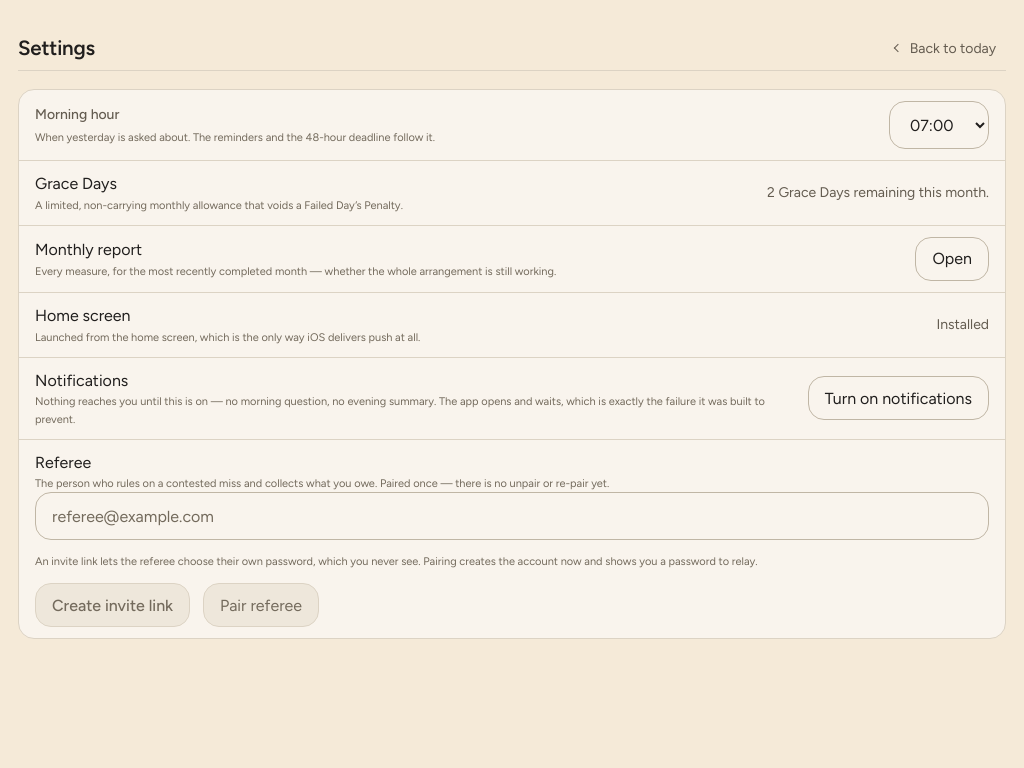
the settings surface › shows the server refusal verbatim rather than a generic failure, and creates nothing
Expected: the dropdown labelled "Morning hour" is shown, [889,101,989,149]
Type "ref2@example.com" into the field with placeholder "referee@example.com".
click(512, 516); type("ref2@example.com")  # box [35,492,989,540]
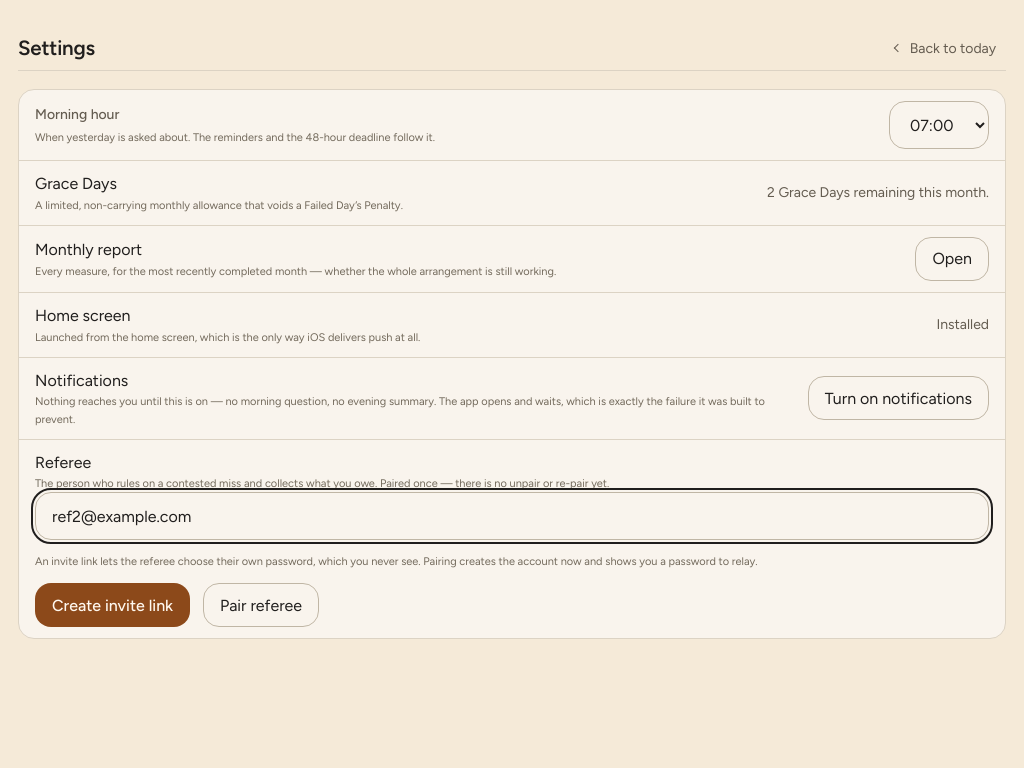
Click the button "Pair referee".
click(261, 606)  # box [203,584,319,628]
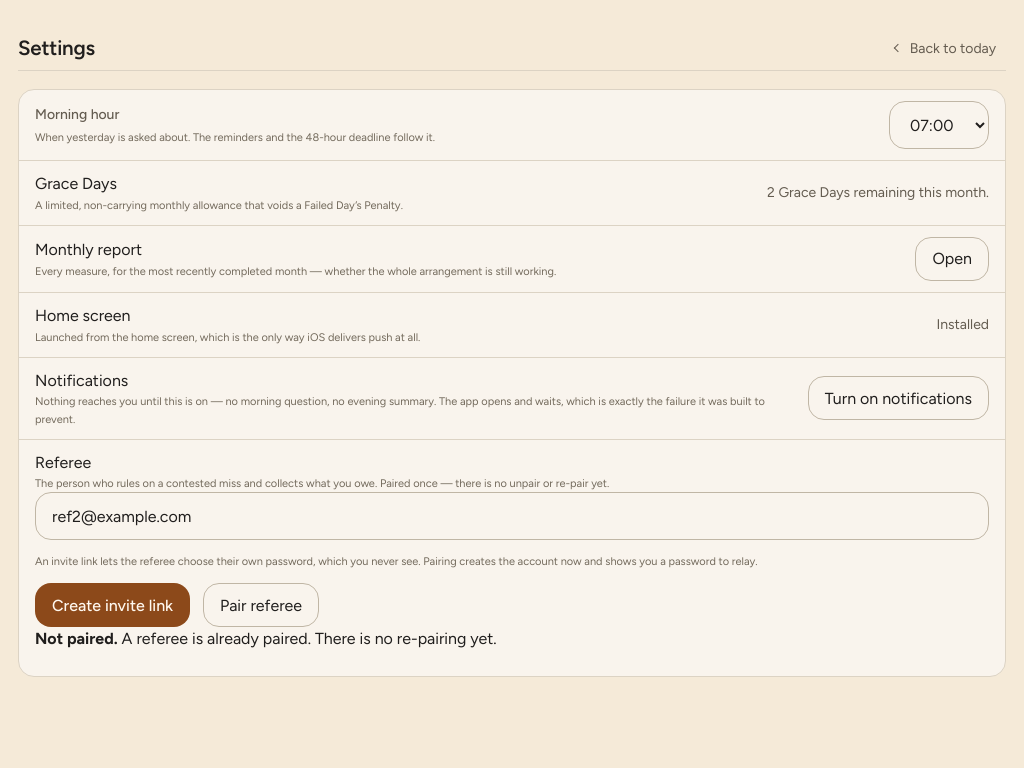
Expected: the text "A referee is already paired. There is no re-pairing yet." is shown, [122,630,497,648]
